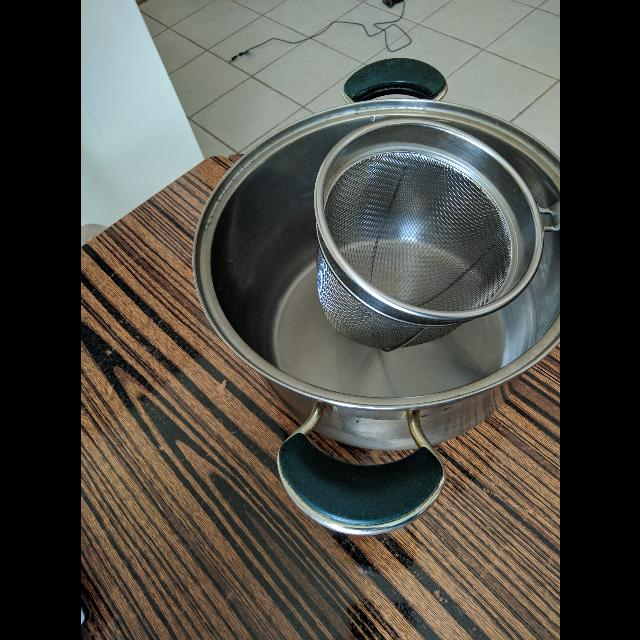Strainer: (302, 116, 545, 318)
